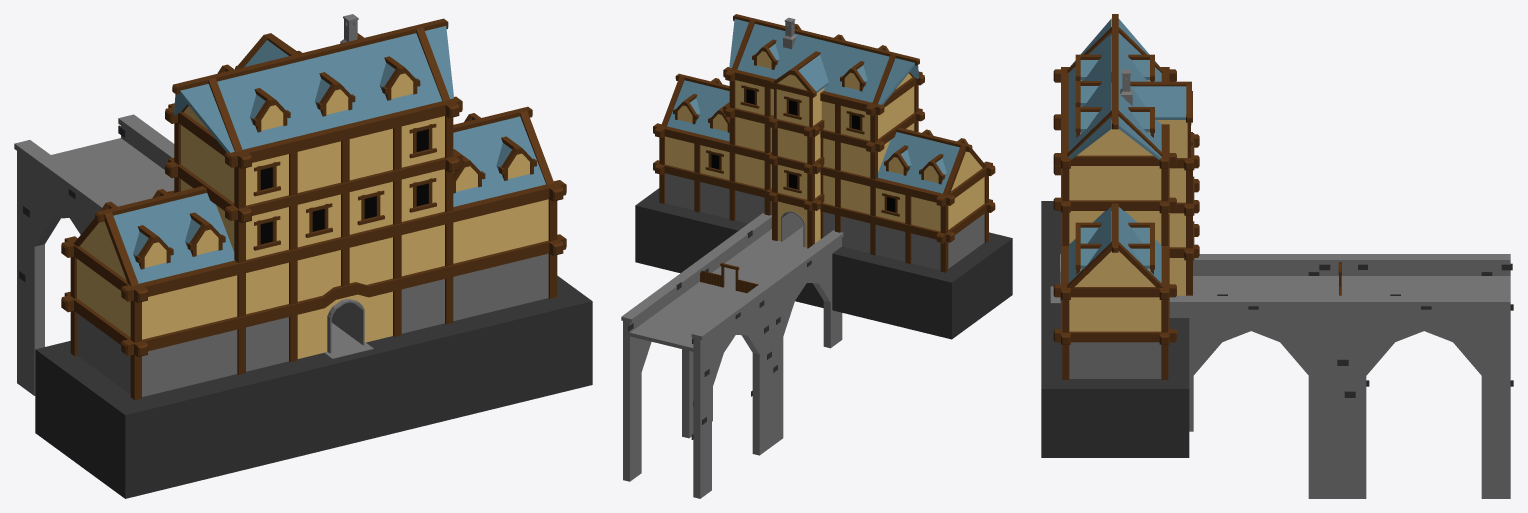
The model's file is MBS_TaxBridge.fbx.
The picture shows the model from 3 angles, left to right: view 1: azimuth 30°, elevation 25°; view 2: azimuth 150°, elevation 25°; view 3: azimuth 270°, elevation 25°; orthographic projection. The views are drawn at different scales.
Parts seen in each view (by area): view 1: MBS_City_BridgeZollHouse02.001; view 2: MBS_City_BridgeZollHouse02.001; view 3: MBS_City_BridgeZollHouse02.001.
Part boxes in pixels (x1,y1,x2,y2): MBS_City_BridgeZollHouse02.001: (14,14,592,498); MBS_City_BridgeZollHouse02.001: (621,14,1012,498); MBS_City_BridgeZollHouse02.001: (1041,14,1513,498).
Size of the model in its own units: 2880 by 3016 by 3061.
